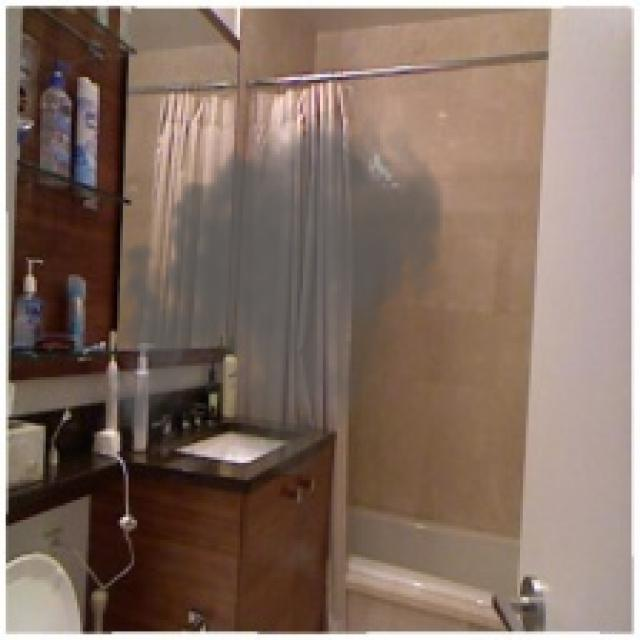smoke: (100, 94, 451, 474)
